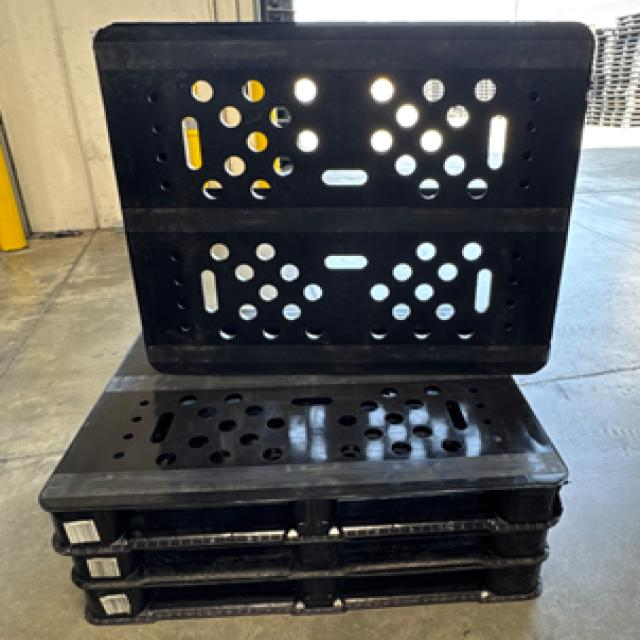igps: (36, 17, 596, 380), (36, 326, 624, 631), (597, 0, 640, 135)
